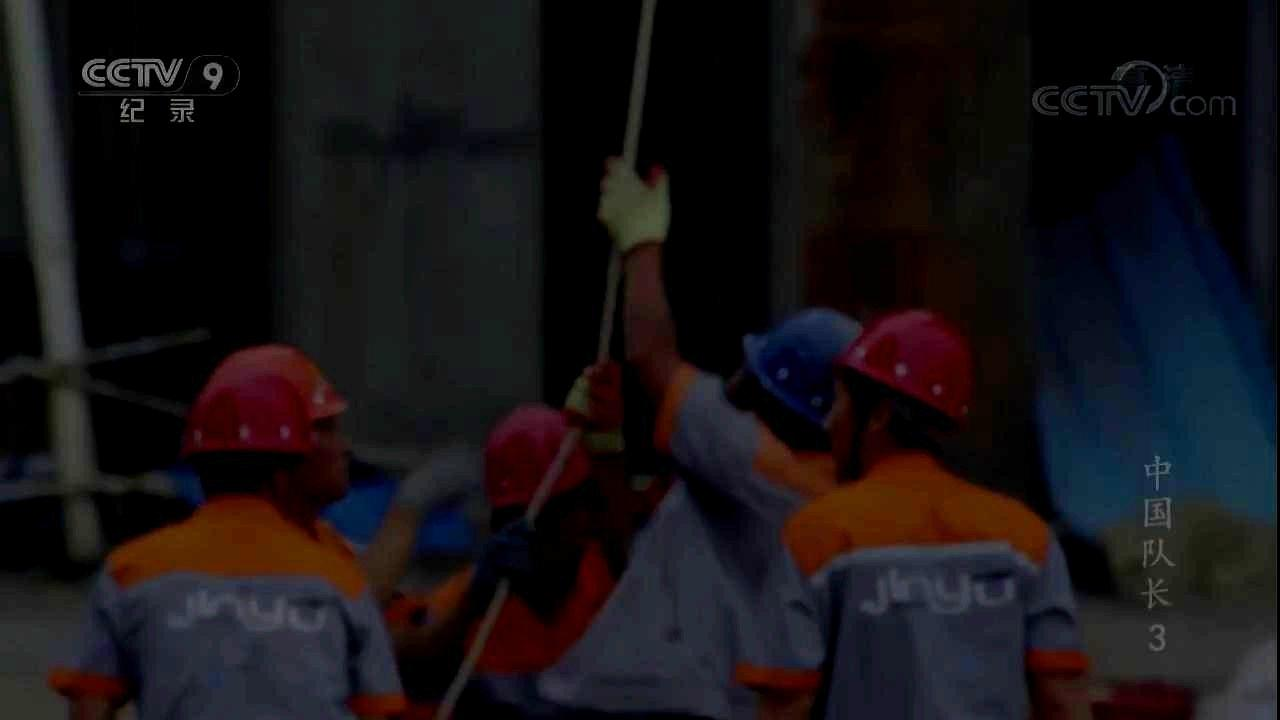helmet: (822, 305, 974, 477), (201, 344, 352, 503), (723, 308, 865, 454), (182, 366, 320, 514), (481, 400, 592, 531)
